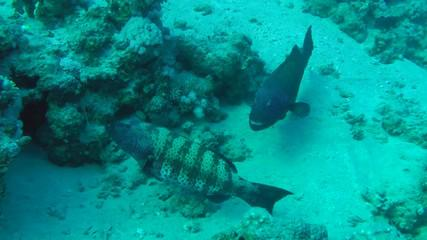Serranidae -Groupers-: (102, 115, 294, 222), (242, 20, 320, 132)
